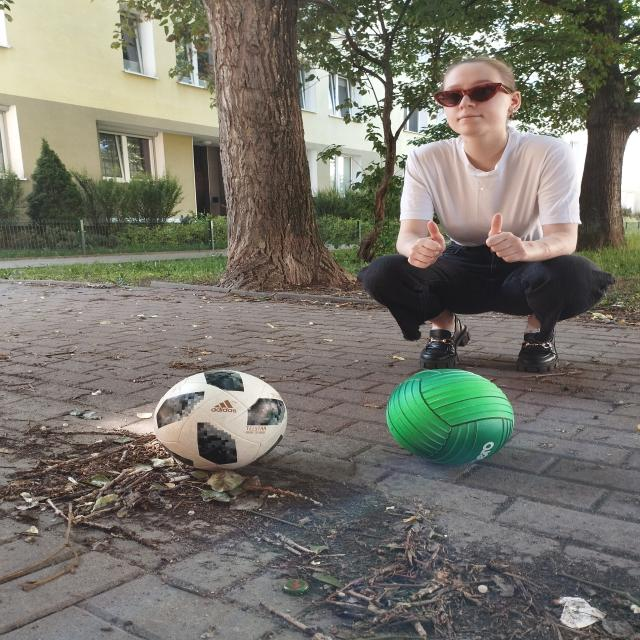nozna: (154, 370, 288, 471)
zielona: (386, 369, 515, 466)
